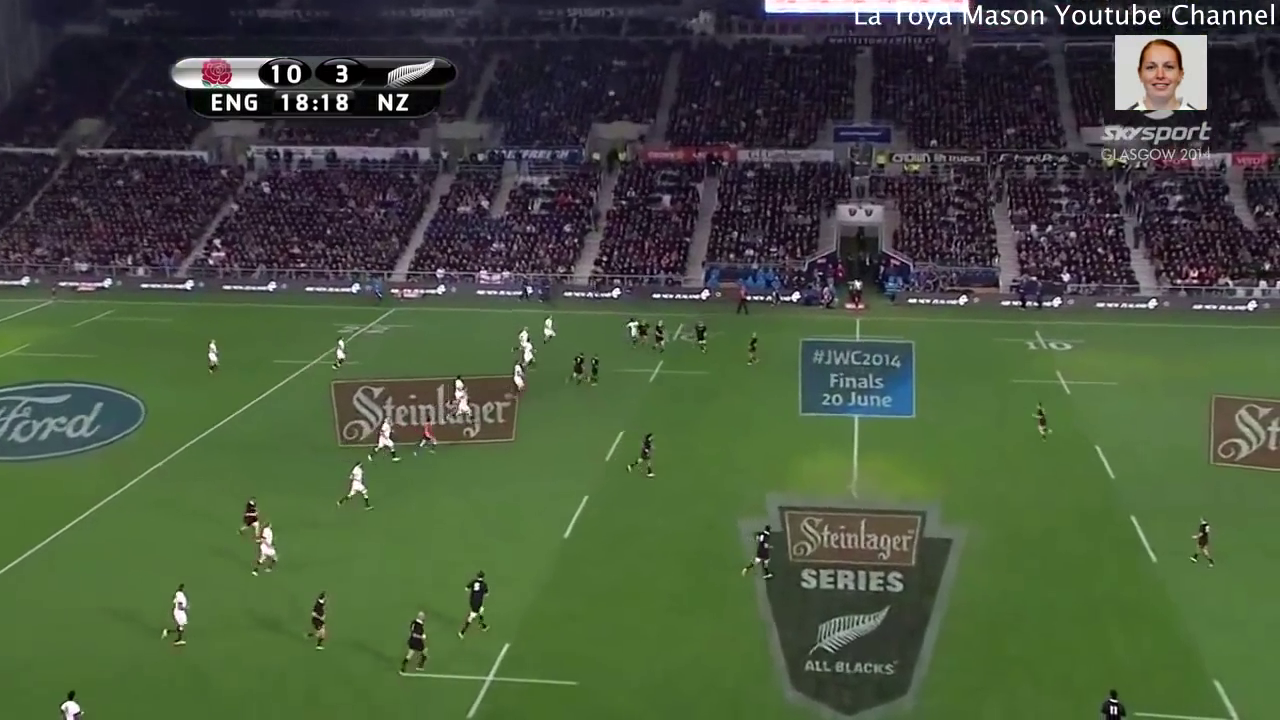10_metre: (388, 634, 581, 720), (1010, 363, 1127, 404), (610, 356, 715, 386), (991, 328, 1097, 355), (628, 320, 725, 347)
player: (453, 564, 495, 646), (613, 420, 662, 486), (396, 604, 437, 680), (154, 576, 193, 652), (357, 410, 406, 467), (299, 583, 333, 657), (739, 518, 777, 584), (334, 460, 375, 512), (1186, 511, 1219, 573), (248, 517, 281, 577), (234, 489, 263, 545), (1091, 686, 1132, 720), (448, 381, 480, 423), (1029, 396, 1054, 446), (53, 683, 86, 720), (413, 413, 440, 457), (562, 347, 590, 388), (202, 335, 227, 380), (739, 328, 762, 370), (537, 308, 561, 348), (328, 333, 351, 374), (690, 319, 713, 357), (621, 313, 644, 350), (510, 359, 528, 401), (652, 316, 670, 358), (584, 351, 602, 392), (635, 315, 654, 351), (518, 335, 540, 366), (450, 371, 464, 407), (513, 323, 531, 343)
